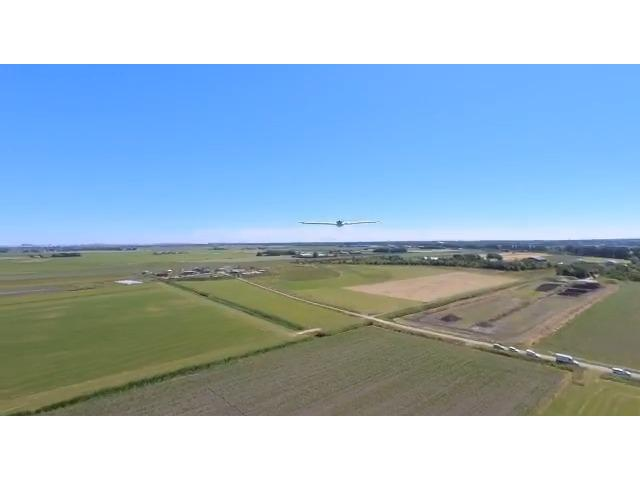Anti-Drone: (294, 201, 392, 243)
